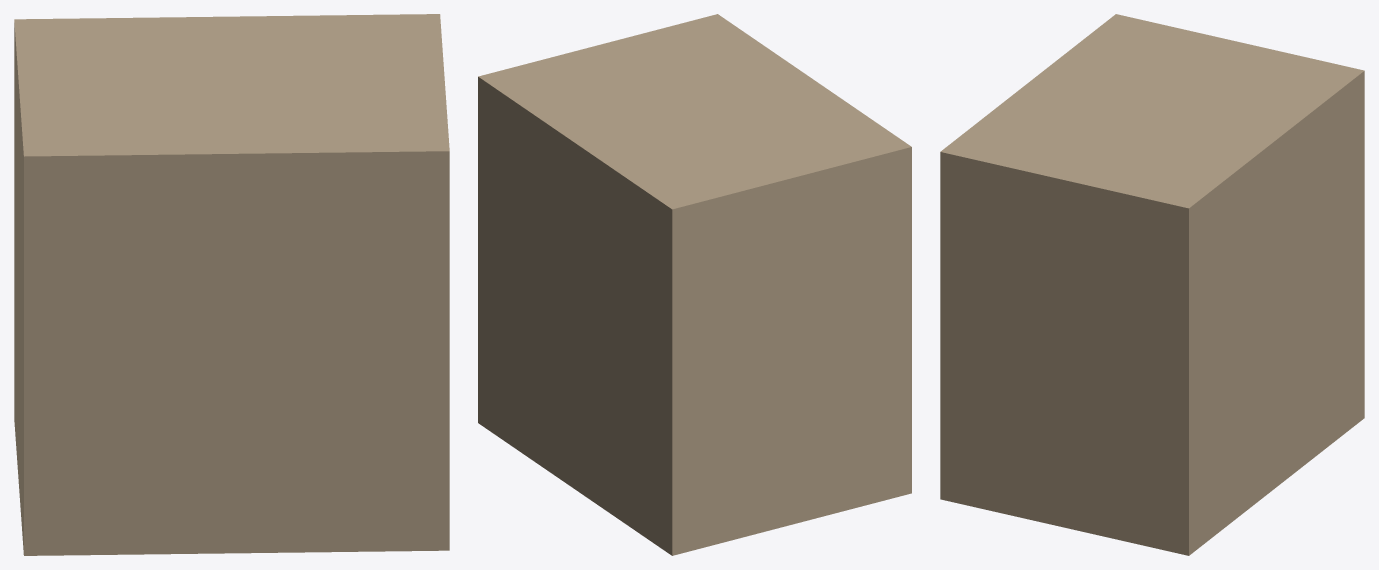
File: bld_101374747.dae
The picture shows the model from 3 angles, left to right: view 1: azimuth 30°, elevation 25°; view 2: azimuth 150°, elevation 25°; view 3: azimuth 270°, elevation 25°; orthographic projection. The views are drawn at different scales.
Visible parts, largest first — view 1: bld_101374747; view 2: bld_101374747; view 3: bld_101374747.
Boxes of the visible parts, x1=… form: bld_101374747: x1=14, y1=14, x2=449, y2=555; bld_101374747: x1=478, y1=14, x2=911, y2=555; bld_101374747: x1=940, y1=14, x2=1364, y2=555.
Bounding box in the file's own units: 9.6 × 8.86 × 8.
